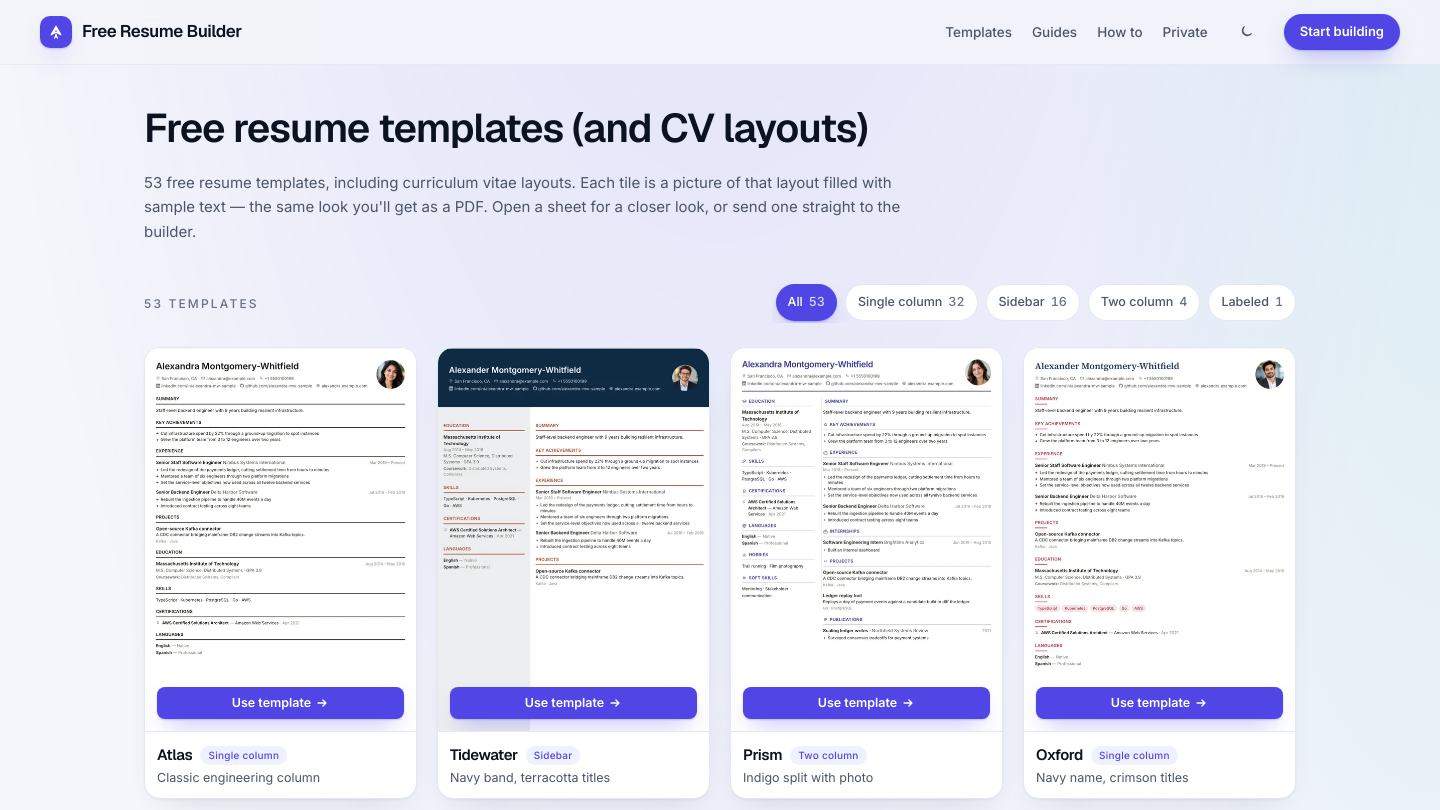
Scenario: templates gallery › opens a sample-text preview of the layout and sends that template to the builder
The image size is (1440, 810).
Click the button named "Preview Atlas layout" at {"x": 280, "y": 540}, box [145,348,416,731]
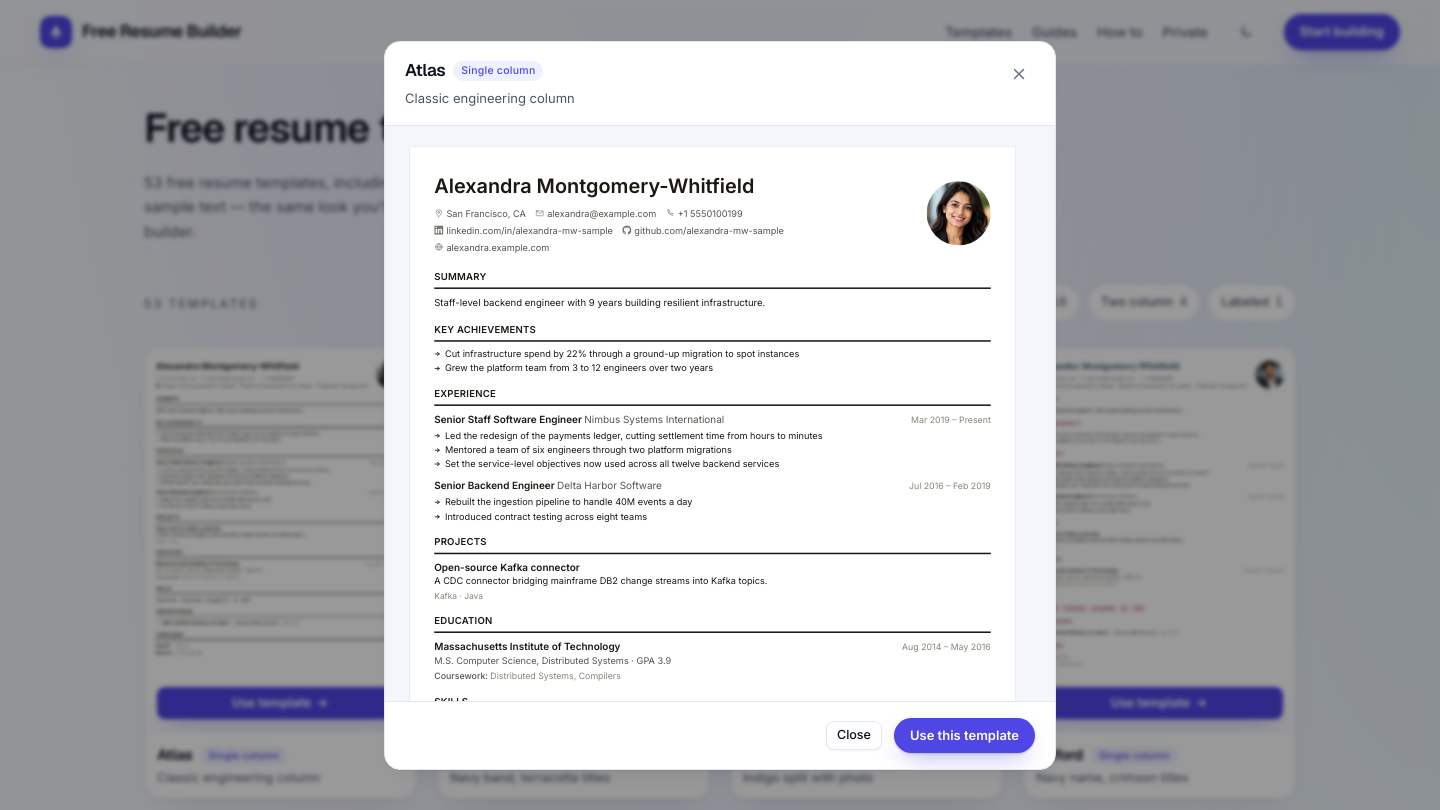
expect the dialog "Atlas" is shown: met
expect the text "Classic engineering column" is shown: met, box [405,87,575,108]
expect the text "Alexandra Montgomery-Whitfield" is shown: met, box [434,173,754,197]
Press Escape
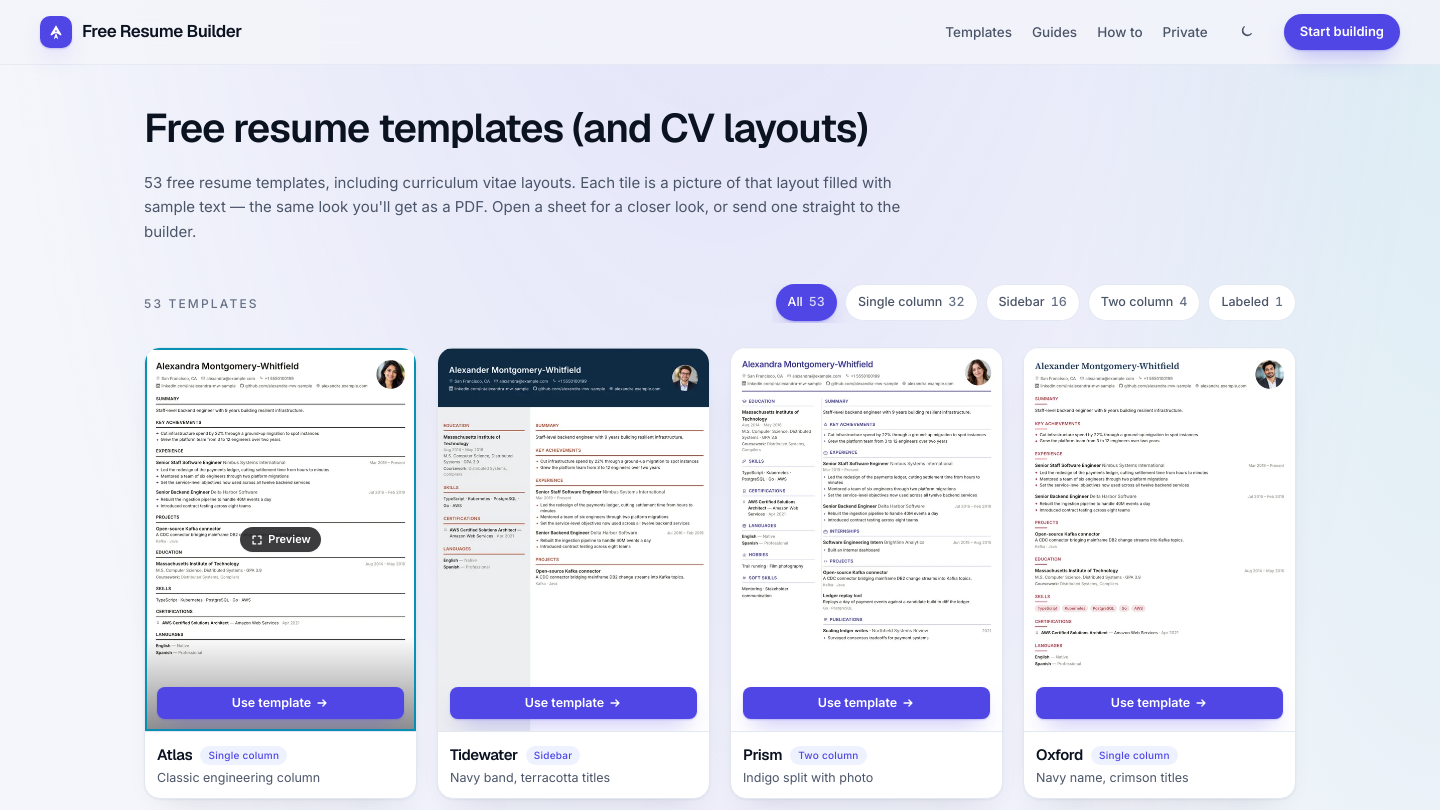
expect the dialog is gone: met
